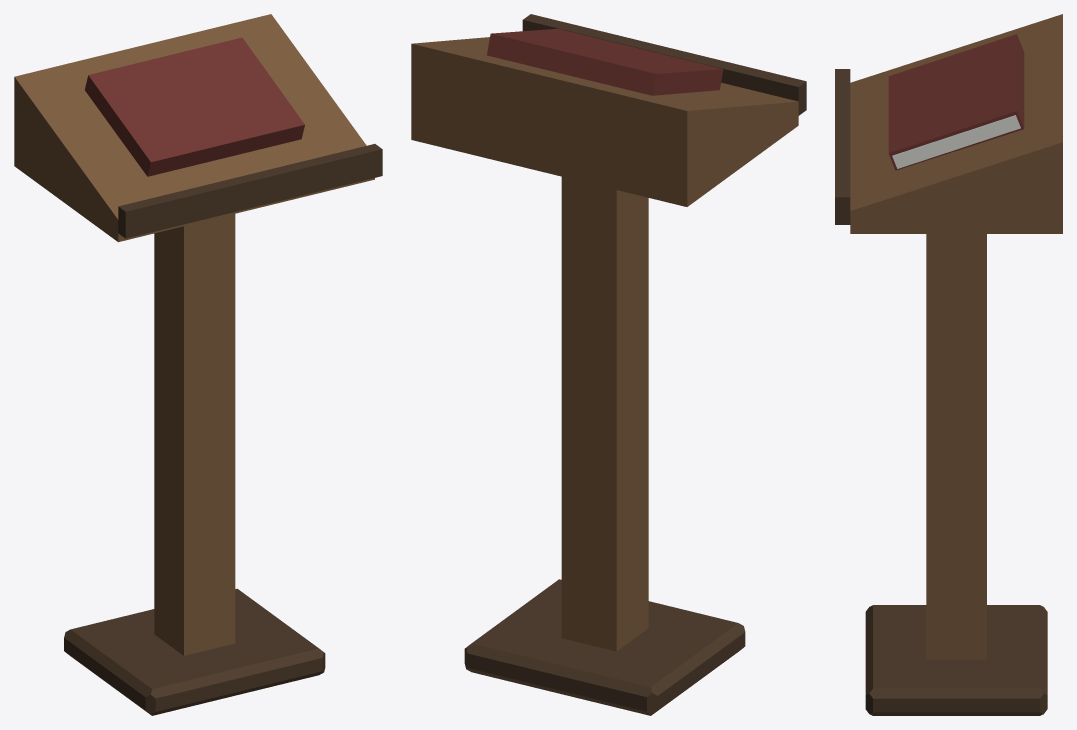
Rendered from pupitre.glb.
3 renders of one model, left to right at view 1: azimuth 30°, elevation 25°; view 2: azimuth 150°, elevation 25°; view 3: azimuth 270°, elevation 25°, orthographic. The views are drawn at different scales.
Visible parts, largest first — view 1: column, desk, bible, foot, lip; view 2: column, desk, foot, bible, lip; view 3: desk, column, foot, bible, lip, page_edge.
Part boxes in pixels (x1,y1,x2,y2): column: (154,214,235,655); desk: (14,14,374,242); bible: (85,37,304,176); foot: (64,588,325,715); lip: (118,144,382,238); column: (561,176,648,651); desk: (411,37,798,206); foot: (464,579,745,715); bible: (487,28,723,95); lip: (522,14,806,115); desk: (850,14,1062,233); column: (926,234,986,659); foot: (865,605,1047,715); bible: (888,34,1024,170); lip: (835,69,850,224); page_edge: (892,115,1020,168).
Size of the model in its own units: 0.6 by 1.31 by 0.45.
Materials: 4 (4 with a texture image).
